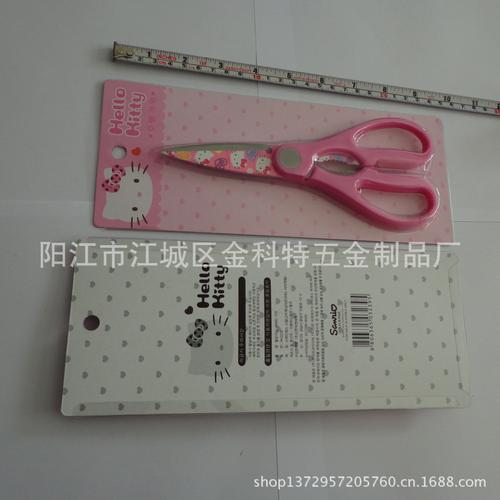scissor: (150, 114, 440, 235)
